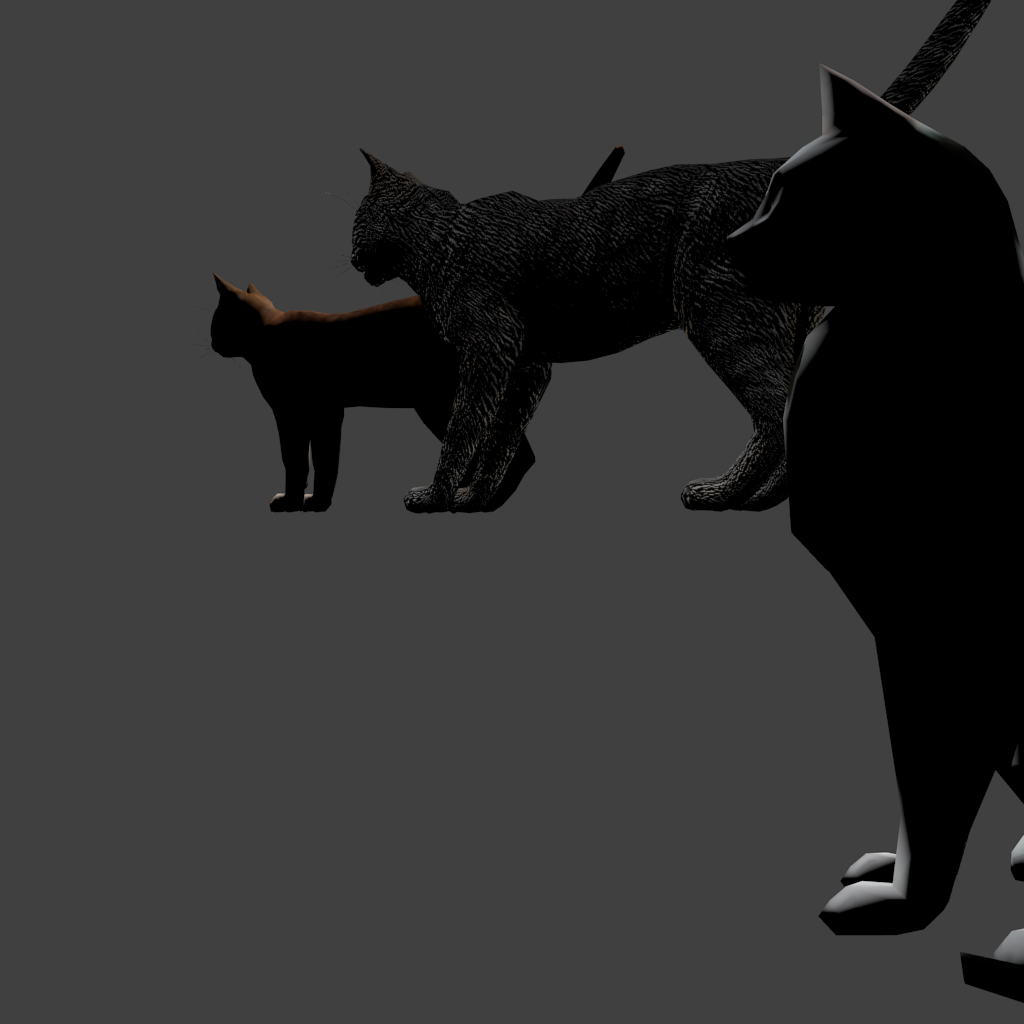Cat: (314, 0, 710, 514), (183, 145, 442, 368)
